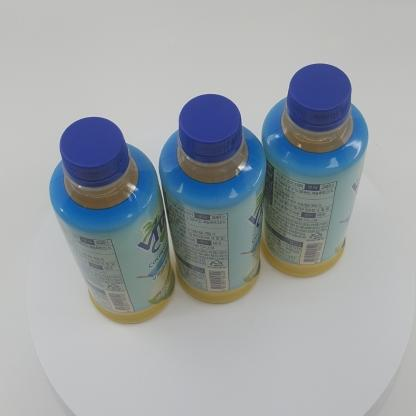----------280ml: (48, 116, 176, 324), (259, 63, 369, 277), (158, 93, 267, 304)
